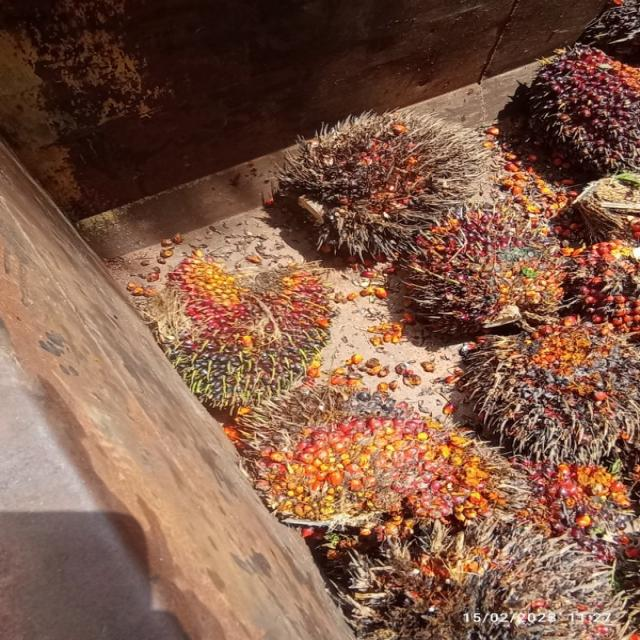fraksi 1: (268, 86, 536, 265), (152, 234, 338, 425), (396, 186, 582, 340), (452, 317, 640, 465)
fraksi 3: (258, 382, 496, 536)
